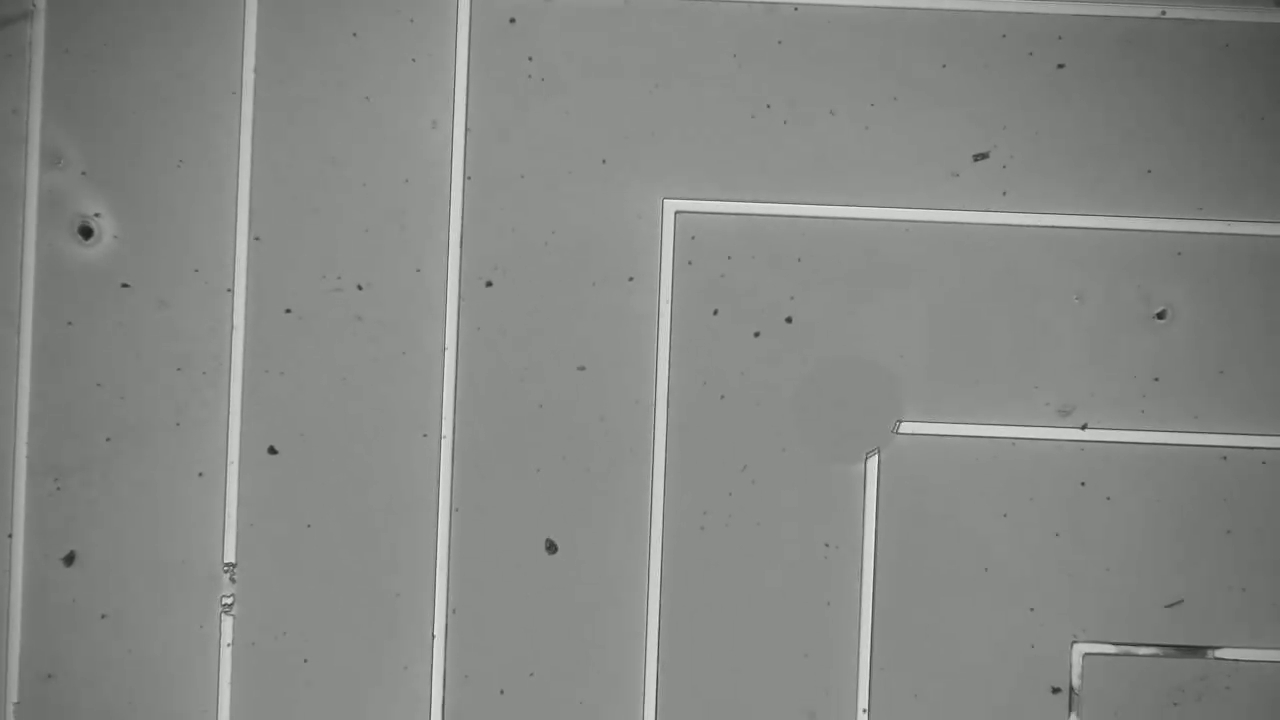gray_line: (1136, 625, 1239, 674), (1060, 671, 1096, 720)
open: (834, 383, 925, 490), (210, 540, 254, 637)
